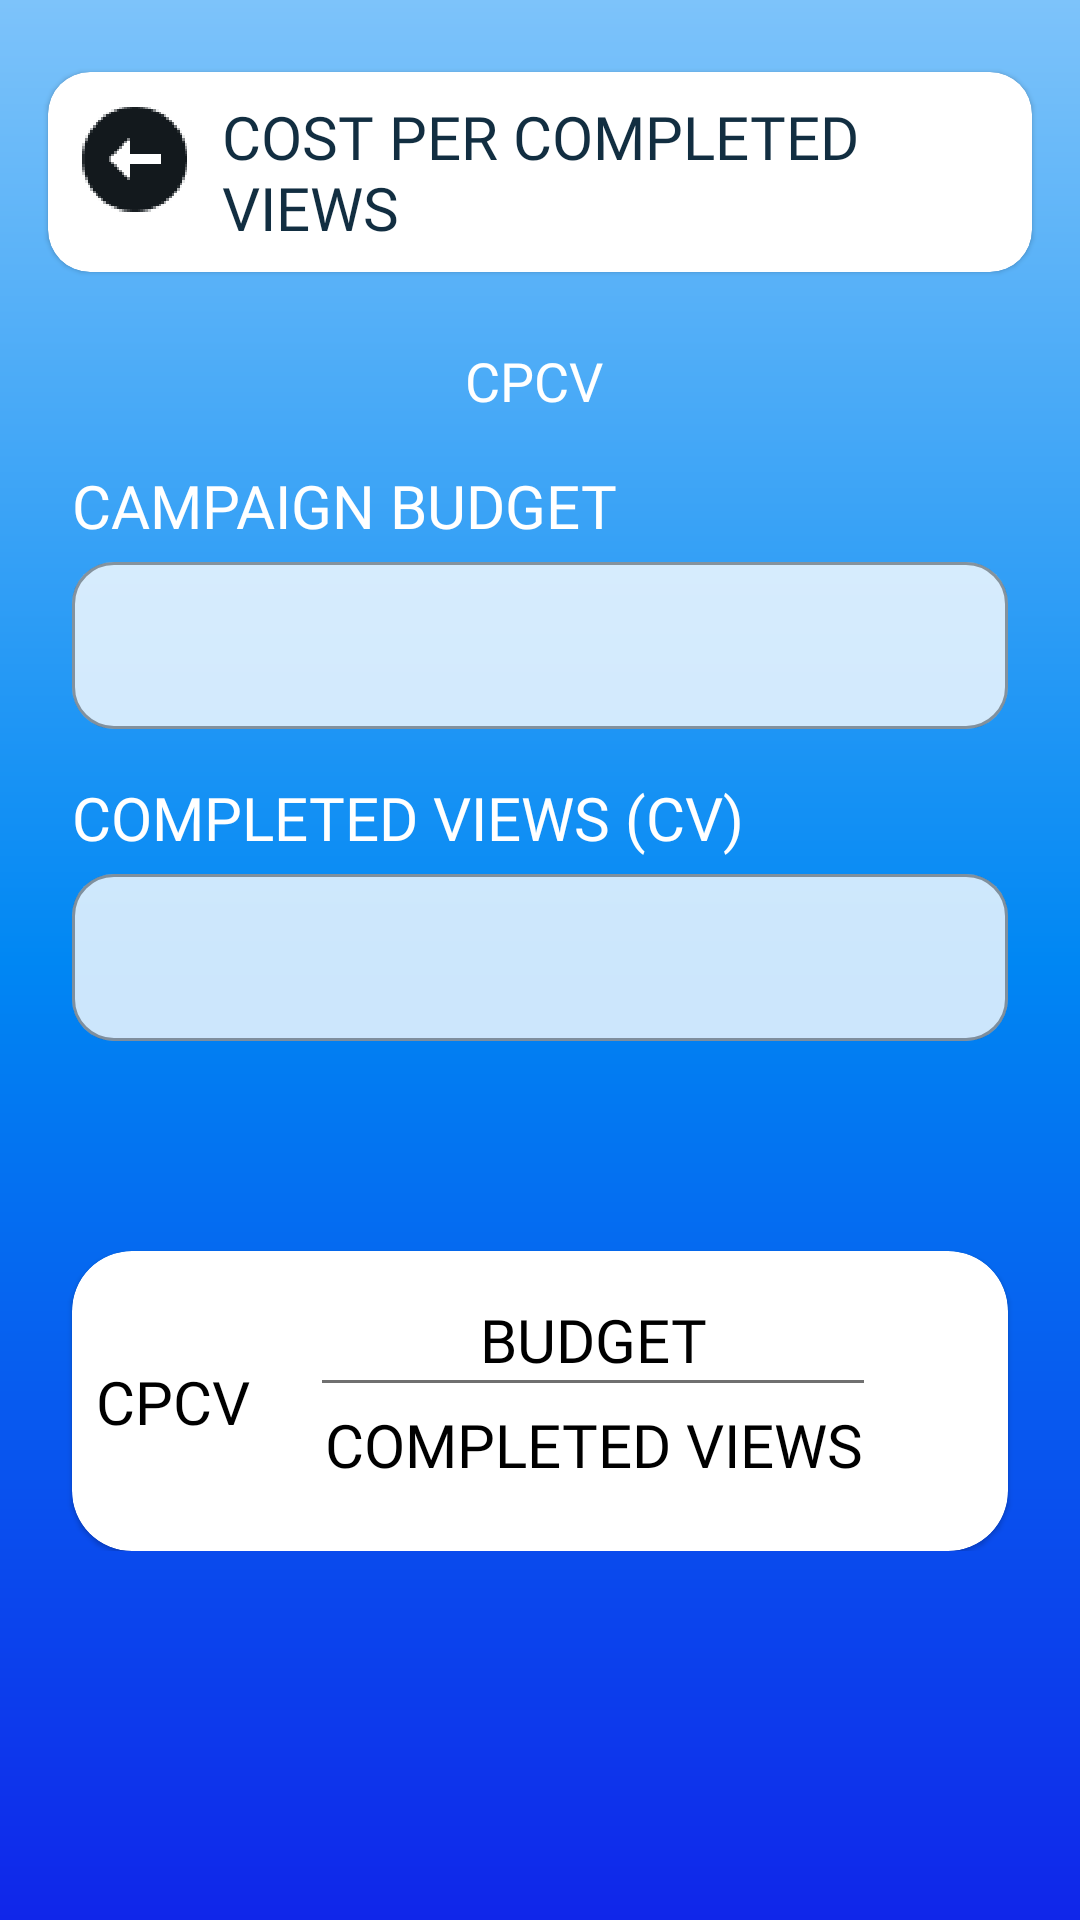

Screen size 1080 × 1920. Icon name, then its center in pixels as point (x, y):
scroll back: point (134, 159)
